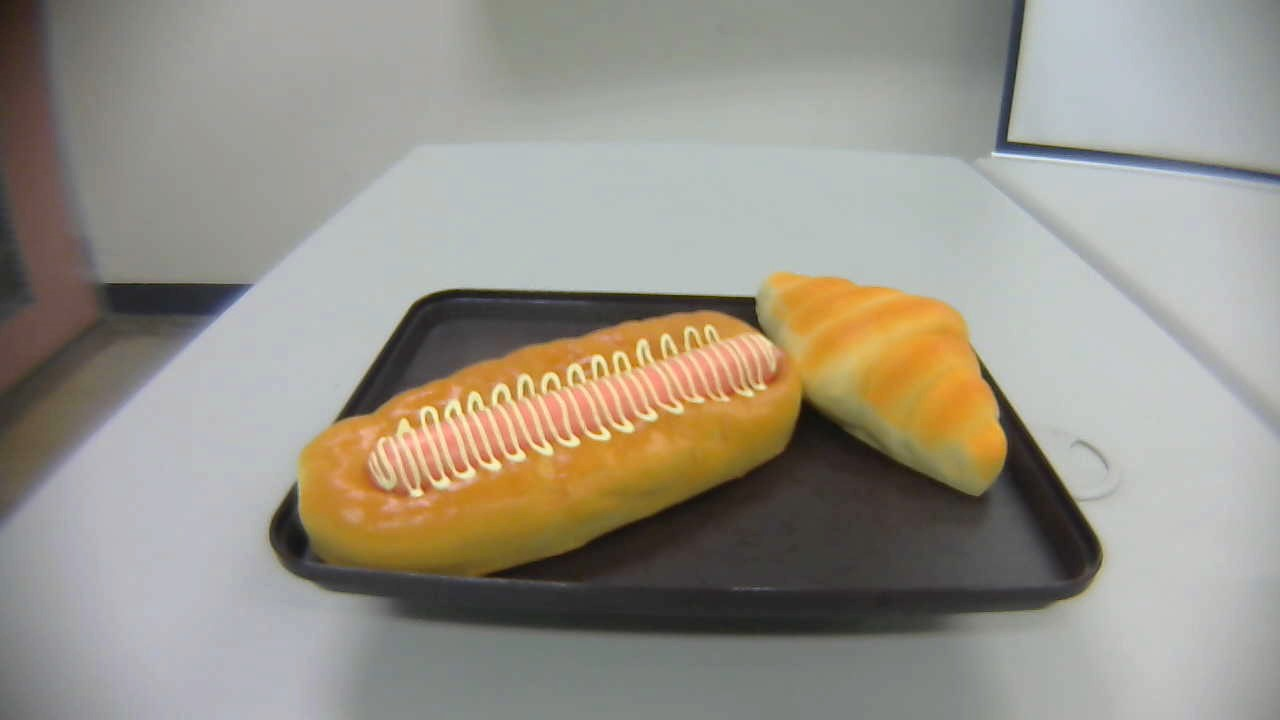croissant: (756, 272, 1009, 499)
hot dog: (296, 310, 802, 577)
